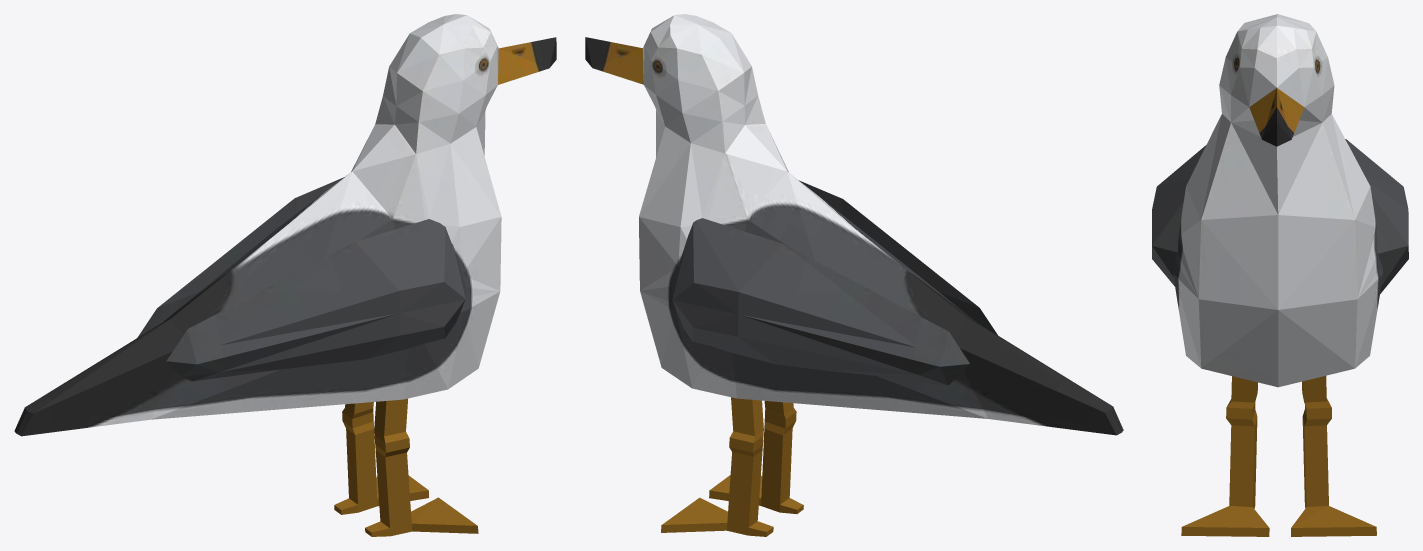
The model's file is 7sQHkW0ylJy.glb.
3 renders of one model, left to right at view 1: azimuth 30°, elevation 25°; view 2: azimuth 150°, elevation 25°; view 3: azimuth 270°, elevation 25°, orthographic. The views are drawn at different scales.
Parts seen in each view (by area): view 1: Gull; view 2: Gull; view 3: Gull.
Part boxes in pixels (x1,y1,x2,y2): Gull: [14, 14, 556, 536]; Gull: [585, 14, 1123, 536]; Gull: [1152, 14, 1408, 536].
Size of the model in its own units: 1.17 by 1 by 0.4378.
1 material, 1 textured.
